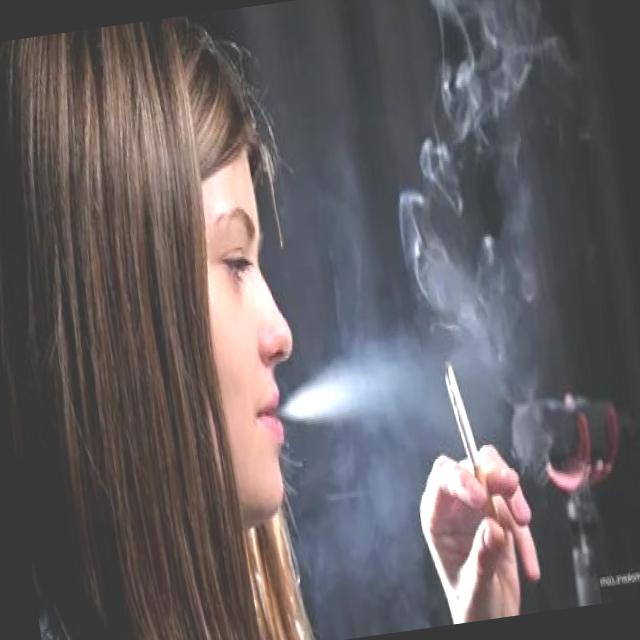smoke: (439, 356, 496, 525)
